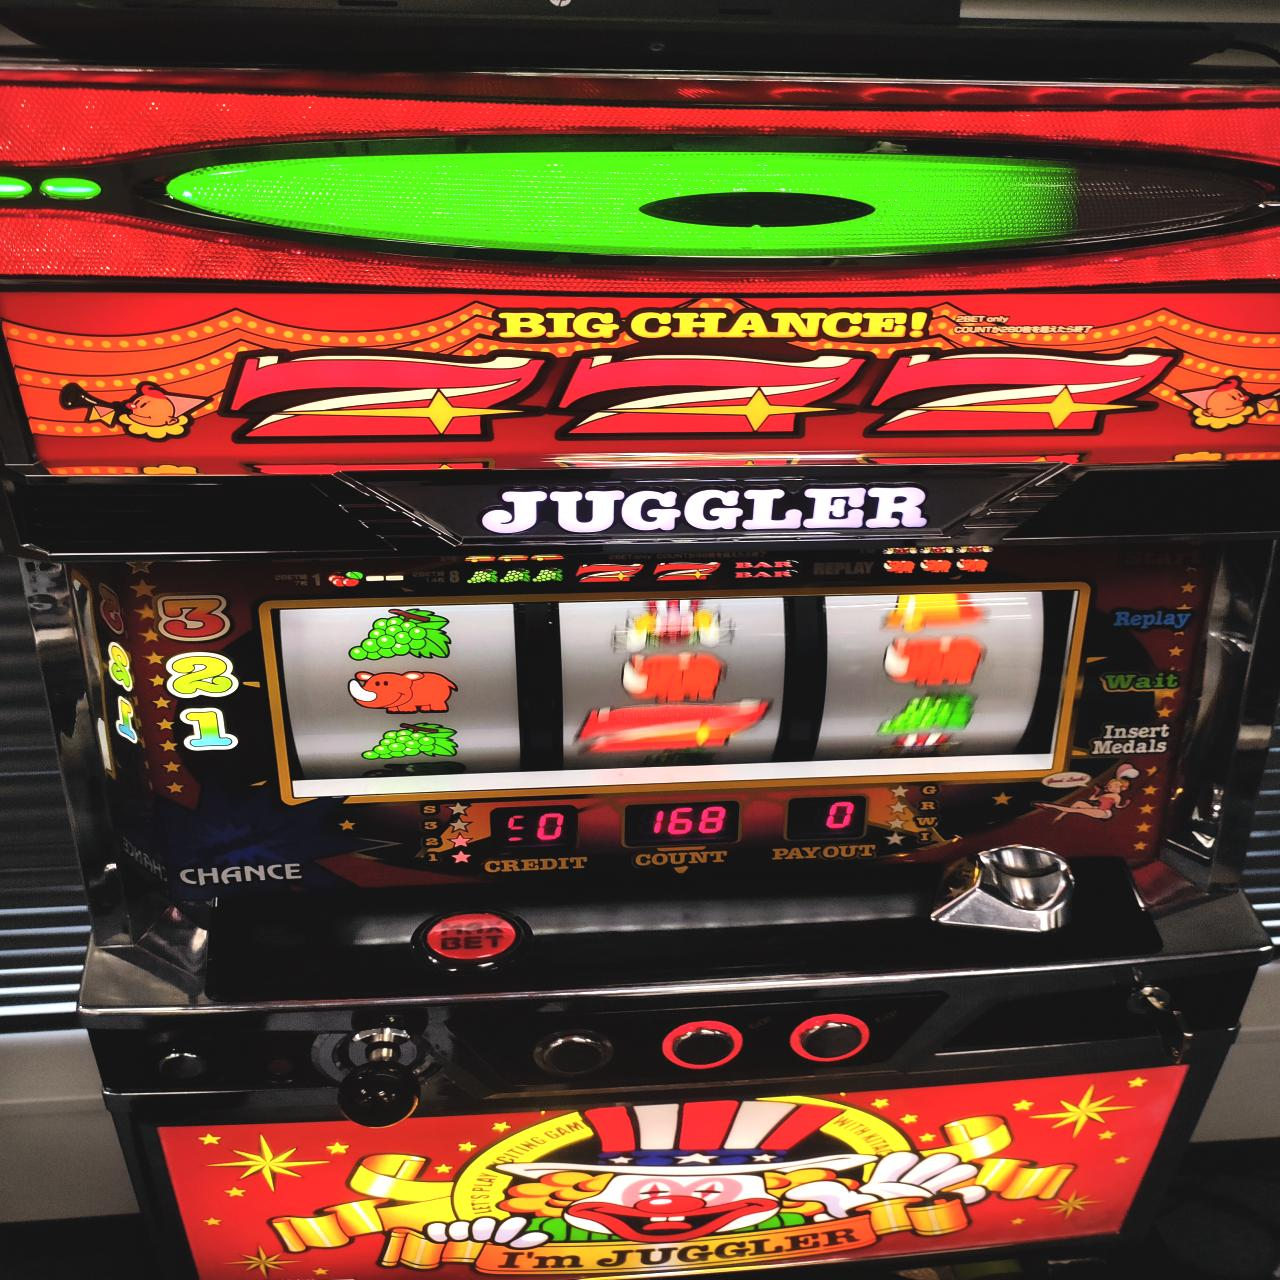8: (345, 668, 463, 712)
grape: (346, 606, 462, 661), (365, 719, 461, 764)
rhino: (272, 574, 1096, 790)
